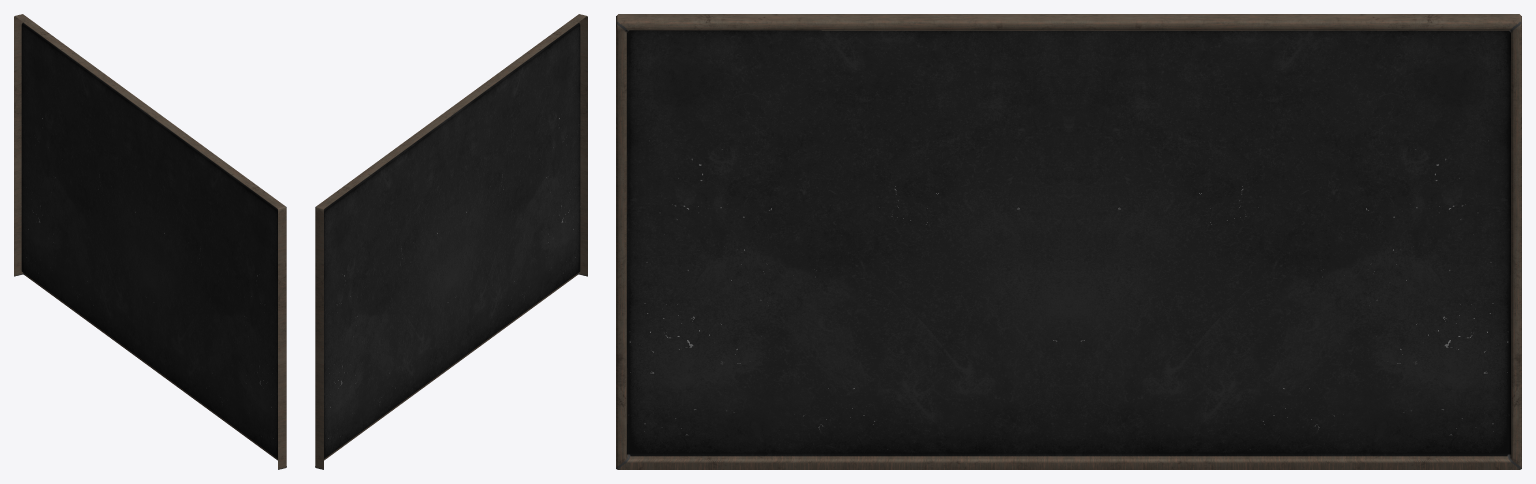
File: SM_Board.fbx
The picture shows the model from 3 angles, left to right: view 1: azimuth 30°, elevation 25°; view 2: azimuth 150°, elevation 25°; view 3: azimuth 270°, elevation 25°; orthographic projection. The views are drawn at different scales.
Parts seen in each view (by area): view 1: SM_Board_LOD0; view 2: SM_Board_LOD0; view 3: SM_Board_LOD0.
Part boxes in pixels (x1=…): SM_Board_LOD0: x1=14, y1=14, x2=286, y2=469; SM_Board_LOD0: x1=315, y1=14, x2=587, y2=469; SM_Board_LOD0: x1=616, y1=14, x2=1521, y2=469.
Size of the model in its own units: 5.33 by 259 by 141.
1 material, 1 textured.
